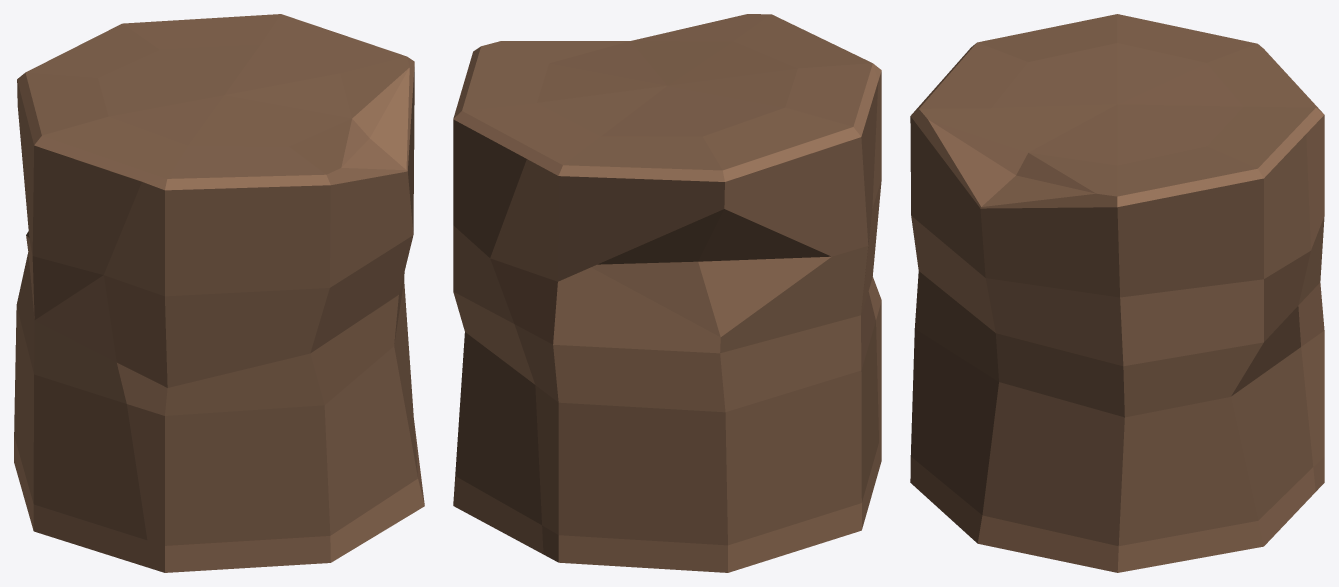
File: Anvil Stand.fbx
The picture shows the model from 3 angles, left to right: view 1: azimuth 30°, elevation 25°; view 2: azimuth 150°, elevation 25°; view 3: azimuth 270°, elevation 25°; orthographic projection. The views are drawn at different scales.
Parts seen in each view (by area): view 1: Anvil_Stand; view 2: Anvil_Stand; view 3: Anvil_Stand.
Boxes of the visible parts, x1,y1,x2,y2 form: Anvil_Stand: (14, 14, 424, 572); Anvil_Stand: (453, 14, 881, 572); Anvil_Stand: (910, 14, 1324, 572).
Bounding box in the file's own units: 83.46 × 82.17 × 80.1.
